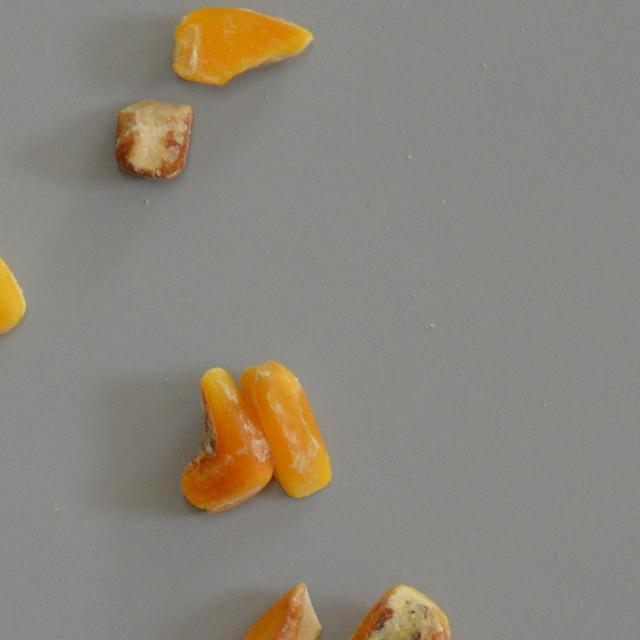dañado: (162, 362, 272, 510), (239, 360, 331, 500), (172, 0, 312, 88), (113, 90, 197, 179), (336, 580, 454, 640), (232, 582, 324, 640), (0, 228, 28, 350)
